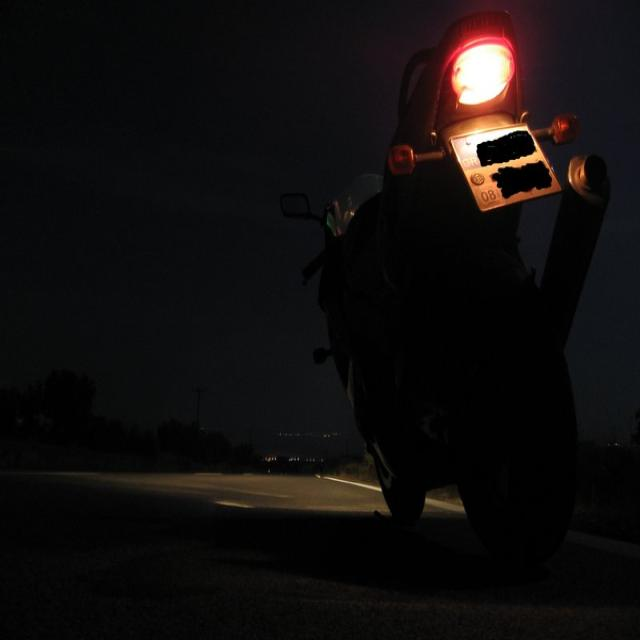Motorbike: (330, 52, 640, 529)
